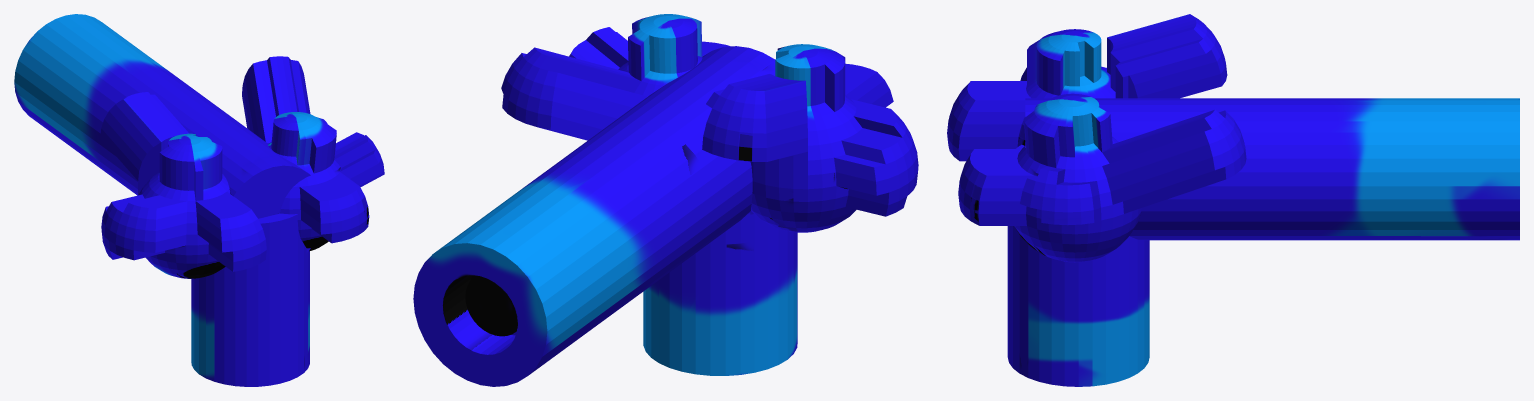
3 renders of one model, left to right at view 1: azimuth 30°, elevation 25°; view 2: azimuth 150°, elevation 25°; view 3: azimuth 270°, elevation 25°, orthographic. The views are drawn at different scales.
Visible parts, largest first — view 1: D-45; view 2: D-45; view 3: D-45.
Part boxes in pixels (x1,y1,x2,y2): D-45: (14, 14, 384, 386); D-45: (413, 14, 918, 386); D-45: (947, 14, 1519, 386).
Size of the model in its own units: 2.37 by 2.11 by 3.7.
1 material, 1 textured.
